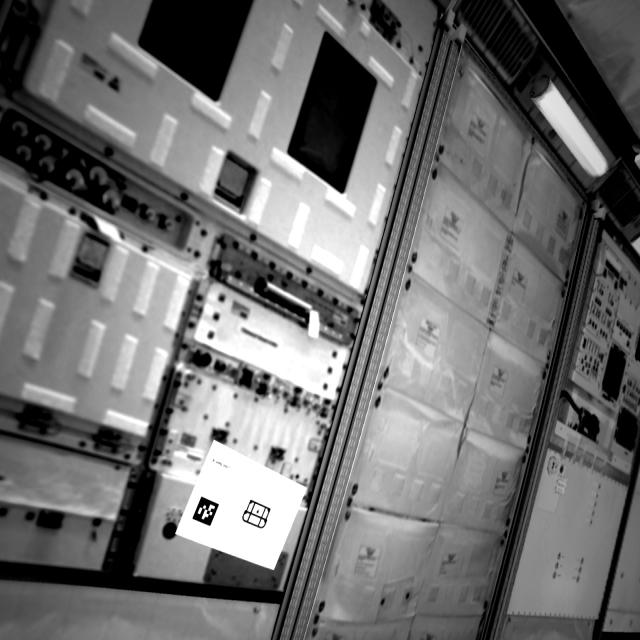treasure_box: (241, 498, 275, 533)
